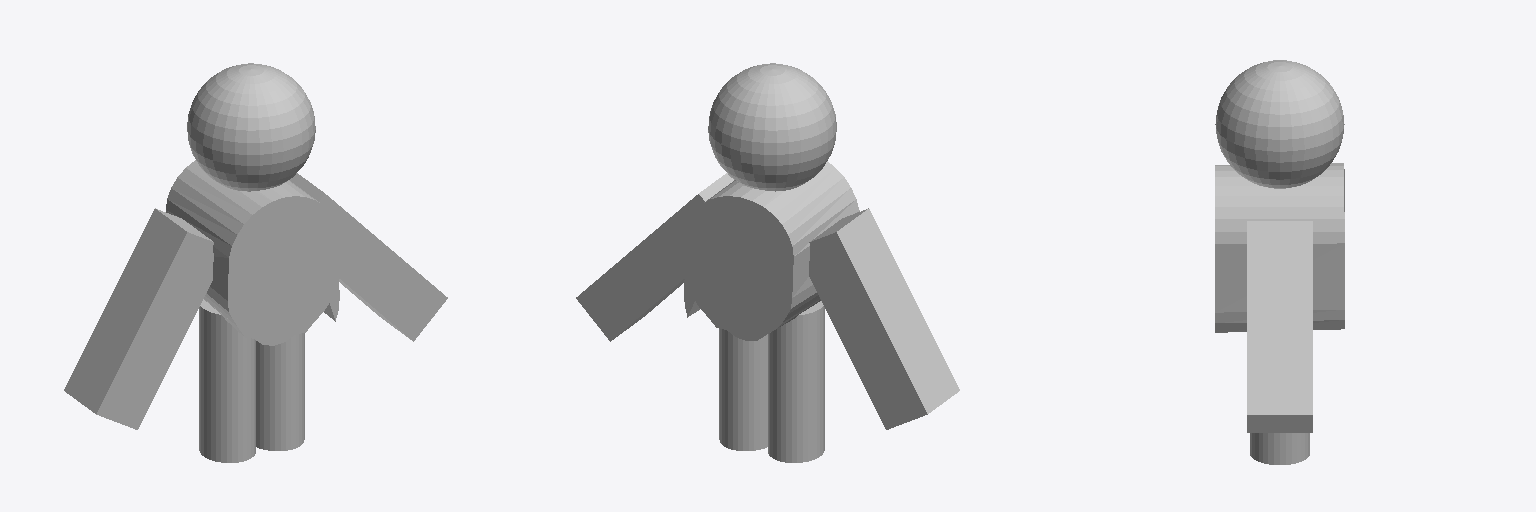
File: Figurine22.obj
3 views of the same model, side by side, from view 1: azimuth 30°, elevation 25°; view 2: azimuth 150°, elevation 25°; view 3: azimuth 270°, elevation 25° (orthographic).
Visible parts, largest first — view 1: Cylinder; view 2: Cylinder; view 3: Cylinder.
Boxes of the visible parts, x1,y1,x2,y2 form: Cylinder: [64, 63, 447, 462]; Cylinder: [576, 63, 959, 462]; Cylinder: [1215, 60, 1344, 464].
Size of the model in its own units: 6.3 by 6.42 by 2.